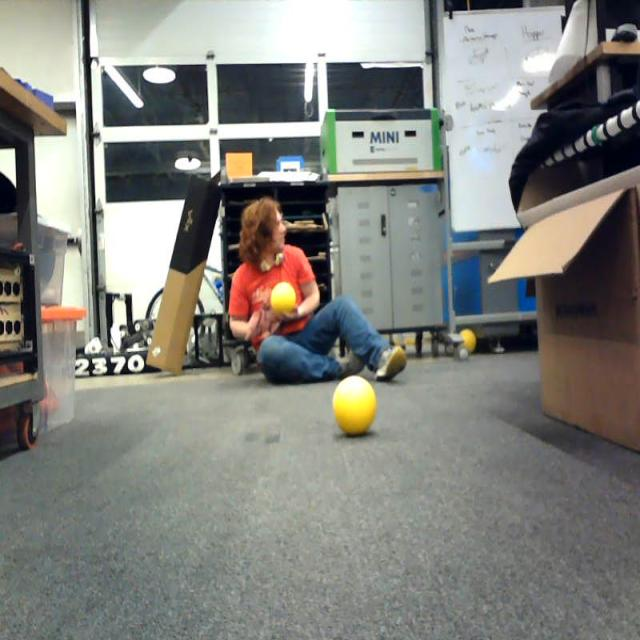Fuel: (333, 377, 376, 436), (271, 283, 295, 315), (460, 330, 476, 355)
